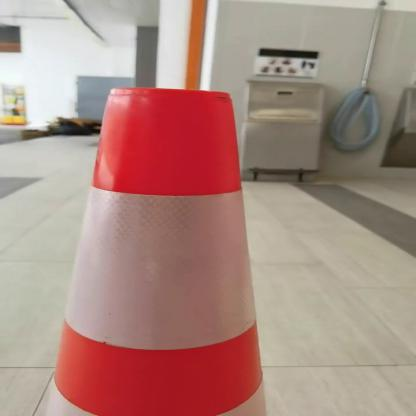cone: (32, 75, 302, 414)
